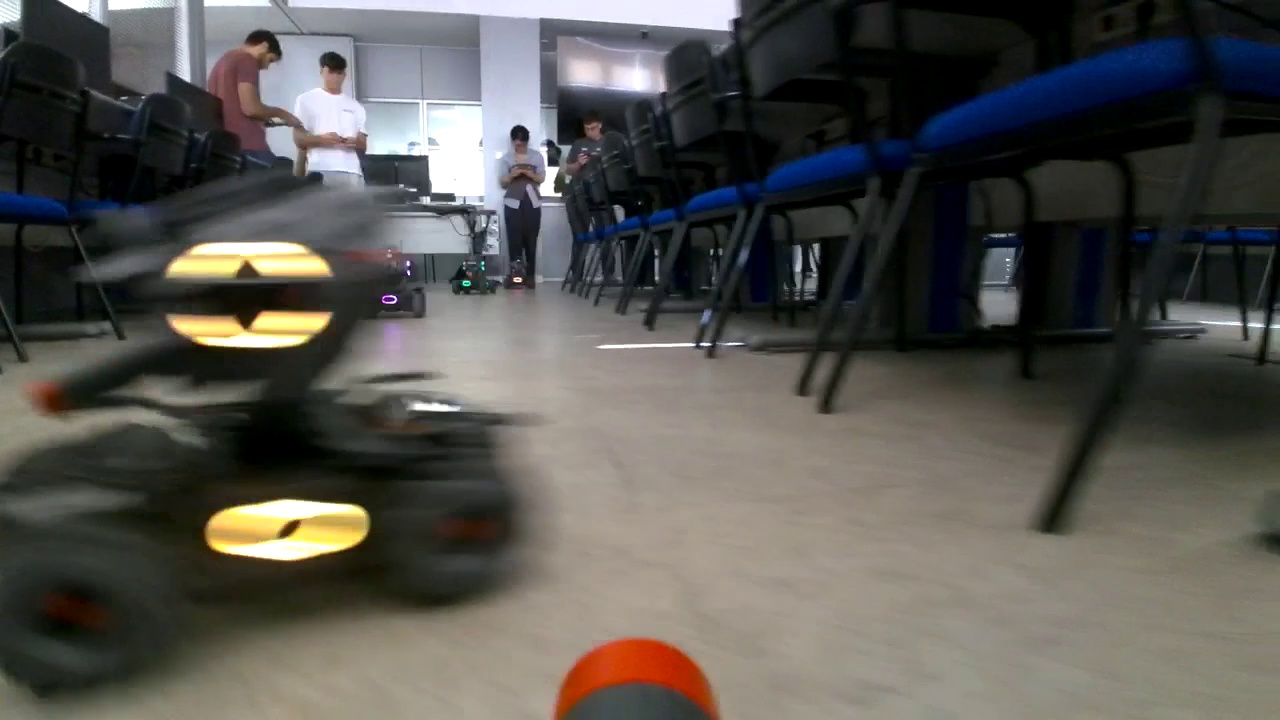robot: (5, 182, 516, 677), (359, 245, 426, 323), (452, 256, 496, 294), (503, 257, 537, 288)
